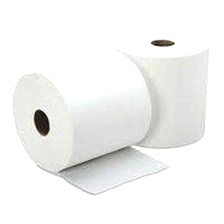tissue: (7, 42, 178, 199), (110, 22, 216, 153)
